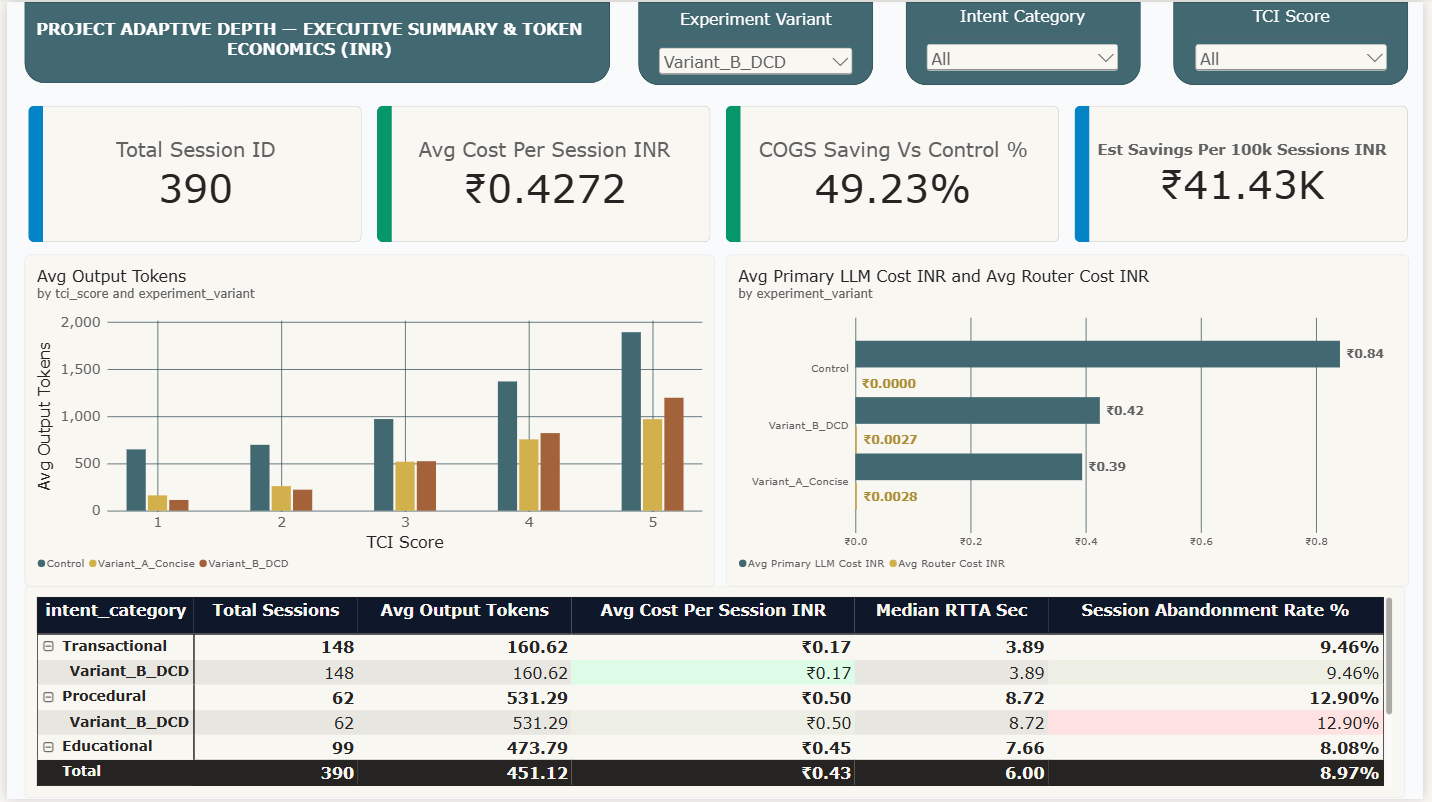

Layout of this report page (visuals, bound fields, positions):
{"tool":"powerbi","page":{"name":"1.INR Unit Economics","canvas":[1920,1080],"ordinal":0},"visuals":[{"type":"shape","box":[24,0,794,110],"z":0},{"type":"shape","box":[1219,0,318.8,112.5],"z":0,"group":"g2"},{"type":"shape","box":[856.2,0,318.8,112.5],"z":1000,"group":"g1"},{"type":"pivotTable","fields":{"Rows":["dcd_indian_token_economics_5k (2).intent_category","dcd_indian_token_economics_5k (2).experiment_variant"],"Values":["_Measures.Total Sessions","_Measures.Avg Output Tokens","_Measures.Avg Cost Per Session INR","_Measures.Median RTTA Sec","_Measures.Session Abandonment Rate %"]},"box":[24,792,1872,288],"z":1000},{"type":"group","id":"g1","title":"Group 1","box":[856.2,0,318.8,112.5],"z":2000},{"type":"cardVisual","fields":{"Data":["Count(dcd_indian_token_economics_5k (2).session_id)"]},"box":[28,140,452.8,185.9],"z":2000,"group":"g4"},{"type":"group","id":"g2","title":"Group 2","box":[1219,0,318.8,112.5],"z":3000},{"type":"cardVisual","fields":{"Data":["_Measures.Avg Cost Per Session INR"]},"box":[500.7,140,452.8,185.9],"z":3000,"group":"g4"},{"type":"group","id":"g3","title":"Group 3","box":[1581.7,0,318.3,113.3],"z":4000},{"type":"cardVisual","fields":{"Data":["_Measures.COGS Savings vs Control %"]},"box":[973.3,140,452.8,185.9],"z":4000,"group":"g4"},{"type":"textbox","box":[34,24,752,60],"z":5000},{"type":"cardVisual","fields":{"Data":["_Measures.Estimated Savings Per 100k Sessions INR"]},"box":[1446,140,452.8,185.9],"z":5000,"group":"g4"},{"type":"group","id":"g4","title":"Group 4","box":[28,140,1870.8,185.9],"z":6000},{"type":"clusteredColumnChart","fields":{"Category":["dcd_indian_token_economics_5k (2).tci_score"],"Series":["dcd_indian_token_economics_5k (2).experiment_variant"],"Y":["_Measures.Avg Output Tokens"]},"box":[24,342.9,936,450],"z":6000,"group":"g5"},{"type":"group","id":"g5","title":"Group 5","box":[24,342.9,1876,450],"z":7000},{"type":"clusteredBarChart","fields":{"Category":["dcd_indian_token_economics_5k (2).experiment_variant"],"Y":["_Measures.Avg Primary LLM Cost INR","_Measures.Avg Router Cost INR"]},"box":[974,342.9,926,450],"z":7000,"group":"g5"},{"type":"slicer","title":"Intent Category","fields":{"Values":["dcd_indian_token_economics_5k (2).intent_category"]},"box":[1243.4,5.6,269,99.1],"z":9000,"group":"g2"},{"type":"slicer","title":"Experiment Variant","fields":{"Values":["dcd_indian_token_economics_5k (2).experiment_variant"]},"box":[880,10,271.4,94.3],"z":10000,"group":"g1"},{"type":"shape","box":[1581.7,0,318.8,112.5],"z":13000,"group":"g3"},{"type":"slicer","title":"TCI Score","fields":{"Values":["dcd_indian_token_economics_5k (2).tci_score"]},"box":[1606.3,4.4,269,99.1],"z":14000,"group":"g3"}]}

Visuals, with their boxes in screenshot pixels (x1, y1, x2, y2), scaled from the page's 1920x1080 canvas onto the 1432x802 screenshot:
shape: pyautogui.locateOnScreen(18, 0, 610, 82)
shape: pyautogui.locateOnScreen(909, 0, 1147, 84)
shape: pyautogui.locateOnScreen(639, 0, 876, 84)
pivotTable - dcd_indian_token_economics_5k (2).intent_category x dcd_indian_token_economics_5k (2).experiment_variant: pyautogui.locateOnScreen(18, 588, 1414, 801)
"Group 1" group: pyautogui.locateOnScreen(639, 0, 876, 84)
cardVisual - Count(dcd_indian_token_economics_5k (2).session_id): pyautogui.locateOnScreen(21, 104, 359, 242)
"Group 2" group: pyautogui.locateOnScreen(909, 0, 1147, 84)
cardVisual - _Measures.Avg Cost Per Session INR: pyautogui.locateOnScreen(373, 104, 711, 242)
"Group 3" group: pyautogui.locateOnScreen(1180, 0, 1417, 84)
cardVisual - _Measures.COGS Savings vs Control %: pyautogui.locateOnScreen(726, 104, 1064, 242)
textbox: pyautogui.locateOnScreen(25, 18, 586, 62)
cardVisual - _Measures.Estimated Savings Per 100k Sessions INR: pyautogui.locateOnScreen(1078, 104, 1416, 242)
"Group 4" group: pyautogui.locateOnScreen(21, 104, 1416, 242)
clusteredColumnChart - dcd_indian_token_economics_5k (2).tci_score x dcd_indian_token_economics_5k (2).experiment_variant: pyautogui.locateOnScreen(18, 255, 716, 589)
"Group 5" group: pyautogui.locateOnScreen(18, 255, 1417, 589)
clusteredBarChart - dcd_indian_token_economics_5k (2).experiment_variant x _Measures.Avg Primary LLM Cost INR: pyautogui.locateOnScreen(726, 255, 1417, 589)
"Intent Category" slicer: pyautogui.locateOnScreen(927, 4, 1128, 78)
"Experiment Variant" slicer: pyautogui.locateOnScreen(656, 7, 859, 77)
shape: pyautogui.locateOnScreen(1180, 0, 1417, 84)
"TCI Score" slicer: pyautogui.locateOnScreen(1198, 3, 1399, 77)
